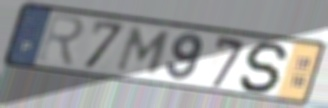7: (83, 18, 129, 72), (210, 33, 247, 90)
9: (163, 31, 205, 83)
M: (113, 25, 175, 77)
R: (36, 12, 87, 70)
S: (237, 40, 293, 95)
